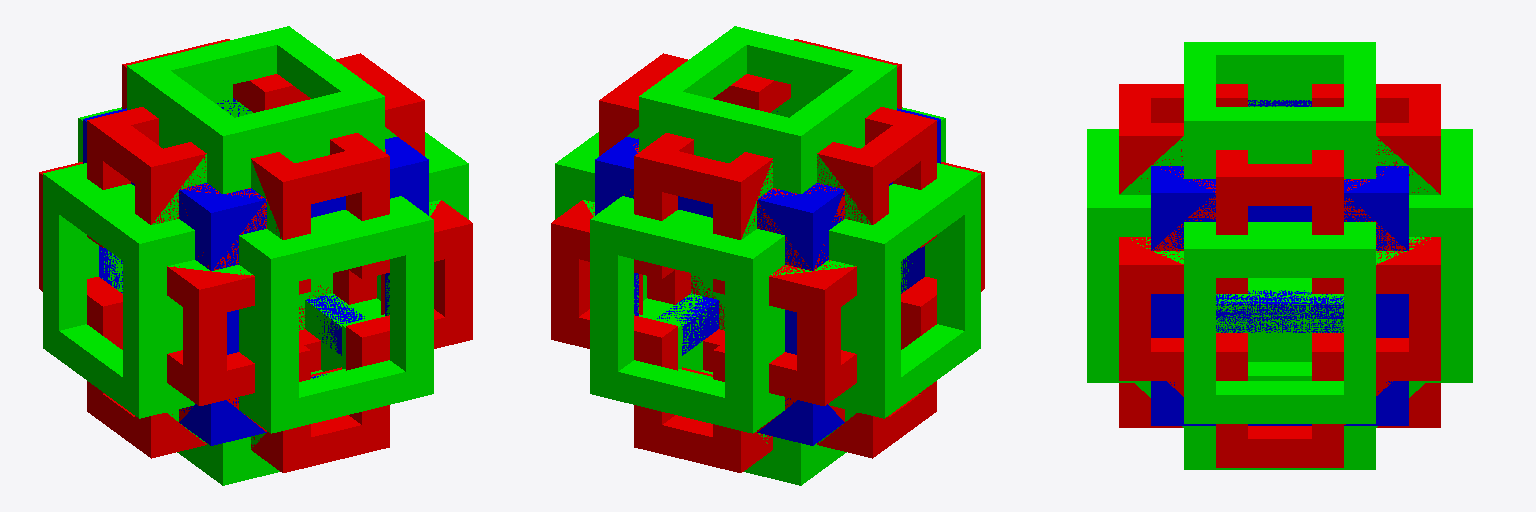
File: ship.obj
3 renders of one model, left to right at view 1: azimuth 30°, elevation 25°; view 2: azimuth 150°, elevation 25°; view 3: azimuth 270°, elevation 25°, orthographic.
Visible parts, largest first — view 1: Mesh2 Group_2 Model, Mesh3 Group_3 Model, Mesh1 Group_1 Model; view 2: Mesh2 Group_2 Model, Mesh3 Group_3 Model, Mesh1 Group_1 Model; view 3: Mesh2 Group_2 Model, Mesh3 Group_3 Model, Mesh1 Group_1 Model.
Part boxes in pixels (left/top/right/bottom): Mesh2 Group_2 Model: left=43, top=26, right=468, bottom=485; Mesh3 Group_3 Model: left=39, top=39, right=472, bottom=472; Mesh1 Group_1 Model: left=83, top=98, right=428, bottom=445; Mesh2 Group_2 Model: left=555, top=26, right=980, bottom=485; Mesh3 Group_3 Model: left=551, top=39, right=984, bottom=472; Mesh1 Group_1 Model: left=595, top=108, right=940, bottom=445; Mesh2 Group_2 Model: left=1087, top=42, right=1472, bottom=469; Mesh3 Group_3 Model: left=1119, top=84, right=1440, bottom=467; Mesh1 Group_1 Model: left=1151, top=100, right=1408, bottom=425.
Bounding box in the file's own units: 18039 × 18288 × 18288.